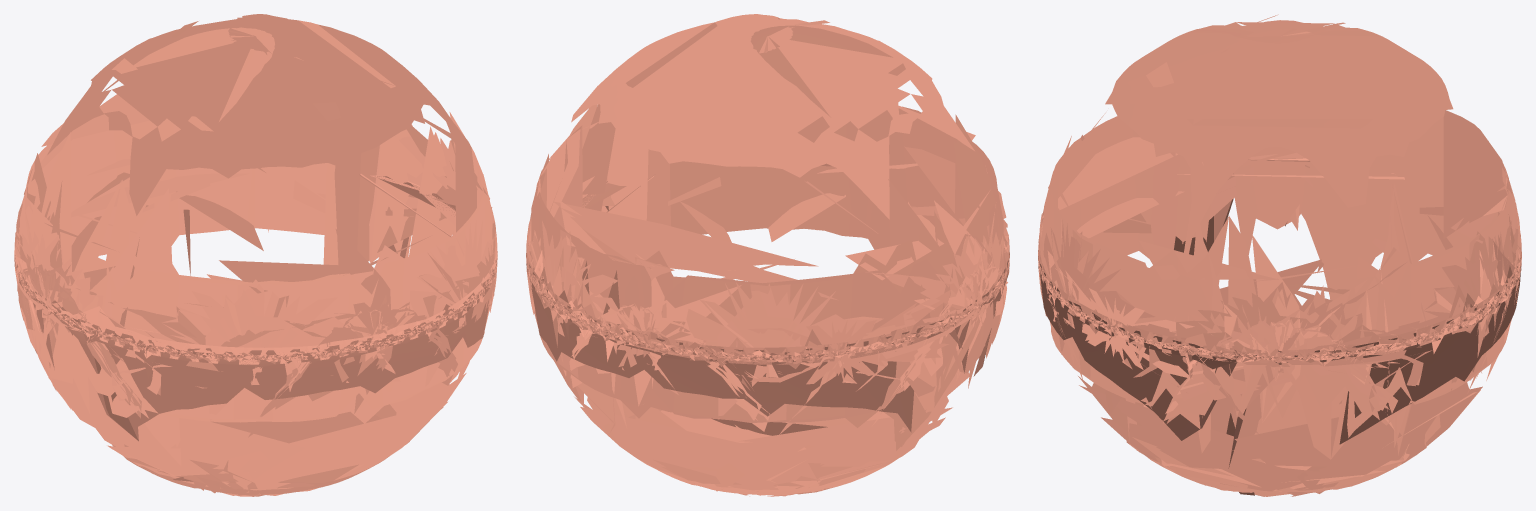
The model's file is piles.glb.
3 renders of one model, left to right at view 1: azimuth 30°, elevation 25°; view 2: azimuth 150°, elevation 25°; view 3: azimuth 270°, elevation 25°, orthographic.
Visible parts, largest first — view 1: piles; view 2: piles; view 3: piles.
Boxes of the visible parts, bbox=[...] form: piles: bbox=[14, 14, 497, 496]; piles: bbox=[526, 14, 1009, 496]; piles: bbox=[1038, 14, 1521, 496].
Size of the model in its own units: 2 by 2 by 2.
